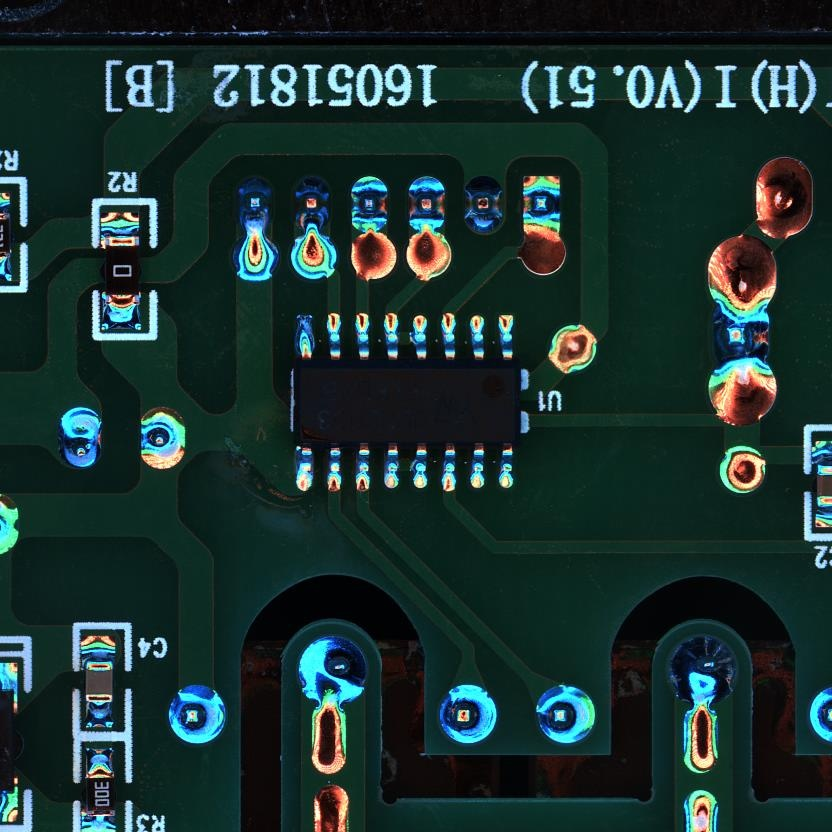spot: (663, 633, 740, 707), (297, 635, 369, 706), (534, 681, 598, 747), (709, 303, 773, 367), (166, 682, 228, 746), (437, 684, 497, 746), (139, 406, 189, 470), (56, 404, 103, 470), (460, 173, 505, 237), (232, 174, 277, 235), (291, 172, 333, 236), (348, 175, 391, 236), (405, 174, 448, 235), (521, 172, 561, 234), (809, 685, 832, 747)
